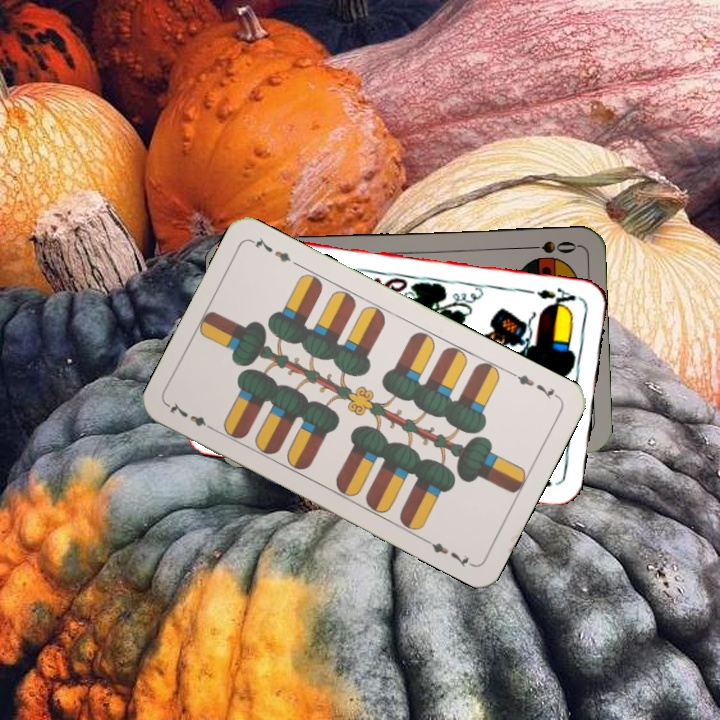E7: (164, 398, 219, 435), (507, 368, 562, 401)
EA: (533, 283, 578, 312)
SO: (520, 236, 579, 256)
